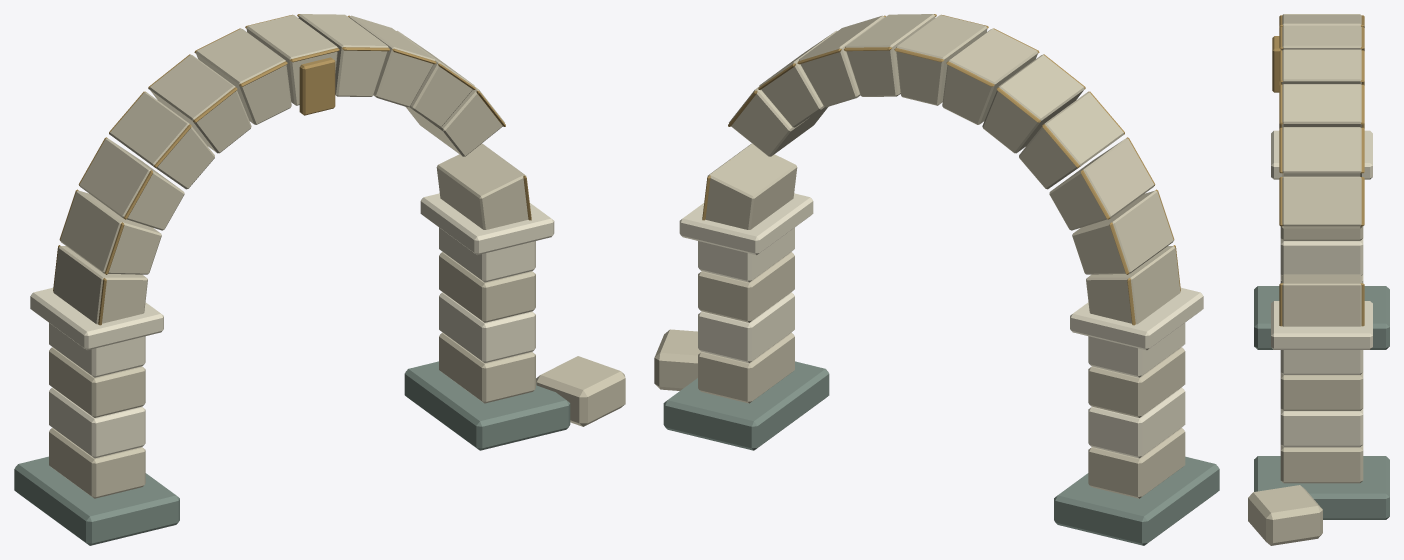
Rendered from ruined_arch.glb.
The picture shows the model from 3 angles, left to right: view 1: azimuth 30°, elevation 25°; view 2: azimuth 150°, elevation 25°; view 3: azimuth 270°, elevation 25°; orthographic projection. The views are drawn at different scales.
Visible parts, largest first — view 1: ruined_arch / mesh; view 2: ruined_arch / mesh; view 3: ruined_arch / mesh.
Part boxes in pixels (box(x1,y1,x2,y2)): ruined_arch / mesh: box(14, 14, 625, 545); ruined_arch / mesh: box(654, 14, 1219, 545); ruined_arch / mesh: box(1248, 14, 1389, 545).
Size of the model in its own units: 11.64 by 8.65 by 2.92.
